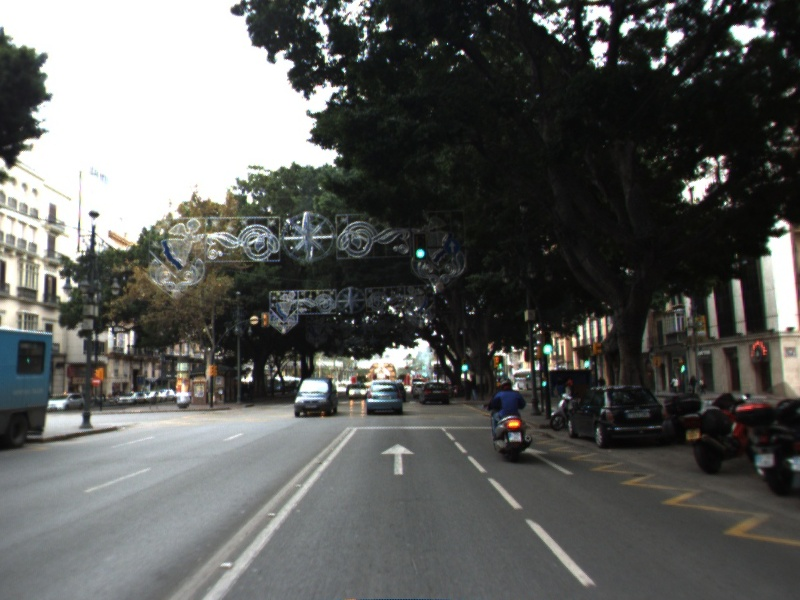STRAIGHT: (520, 446, 576, 477), (379, 441, 418, 477)
